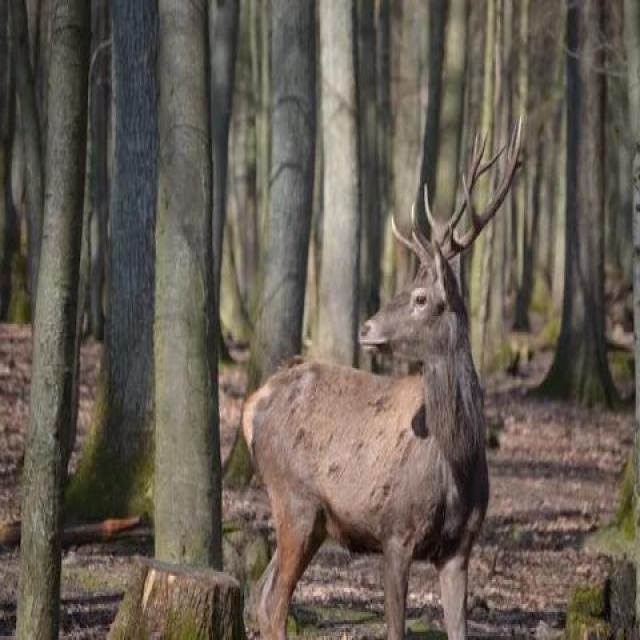deer: (212, 117, 541, 599)
